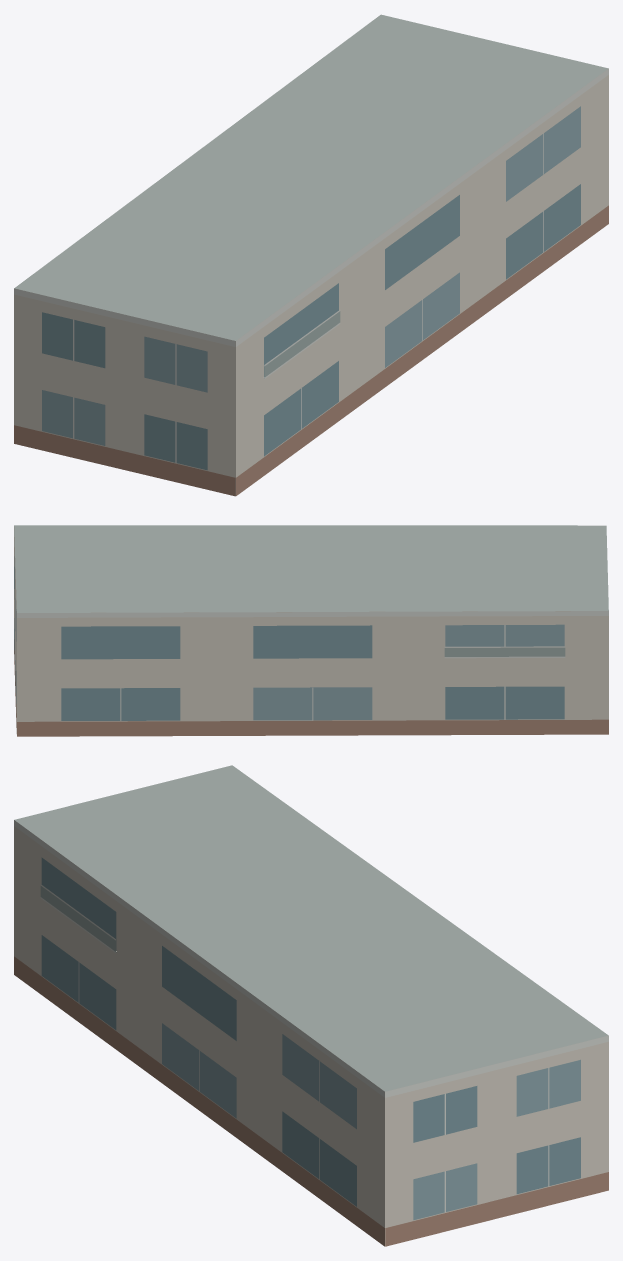
File: survey-upis-33015408.glb
The picture shows the model from 3 angles, top to bottom: view 1: azimuth 30°, elevation 25°; view 2: azimuth 150°, elevation 25°; view 3: azimuth 270°, elevation 25°; orthographic projection. The views are drawn at different scales.
Parts seen in each view (by area): view 1: survey-upis-33015408.tmp; view 2: survey-upis-33015408.tmp; view 3: survey-upis-33015408.tmp.
Part boxes in pixels (x1=…): survey-upis-33015408.tmp: x1=14, y1=14, x2=608, y2=496; survey-upis-33015408.tmp: x1=14, y1=525, x2=608, y2=736; survey-upis-33015408.tmp: x1=14, y1=765, x2=608, y2=1246.
Bounding box in the file's own units: 27.59 × 6.1 × 21.23.
